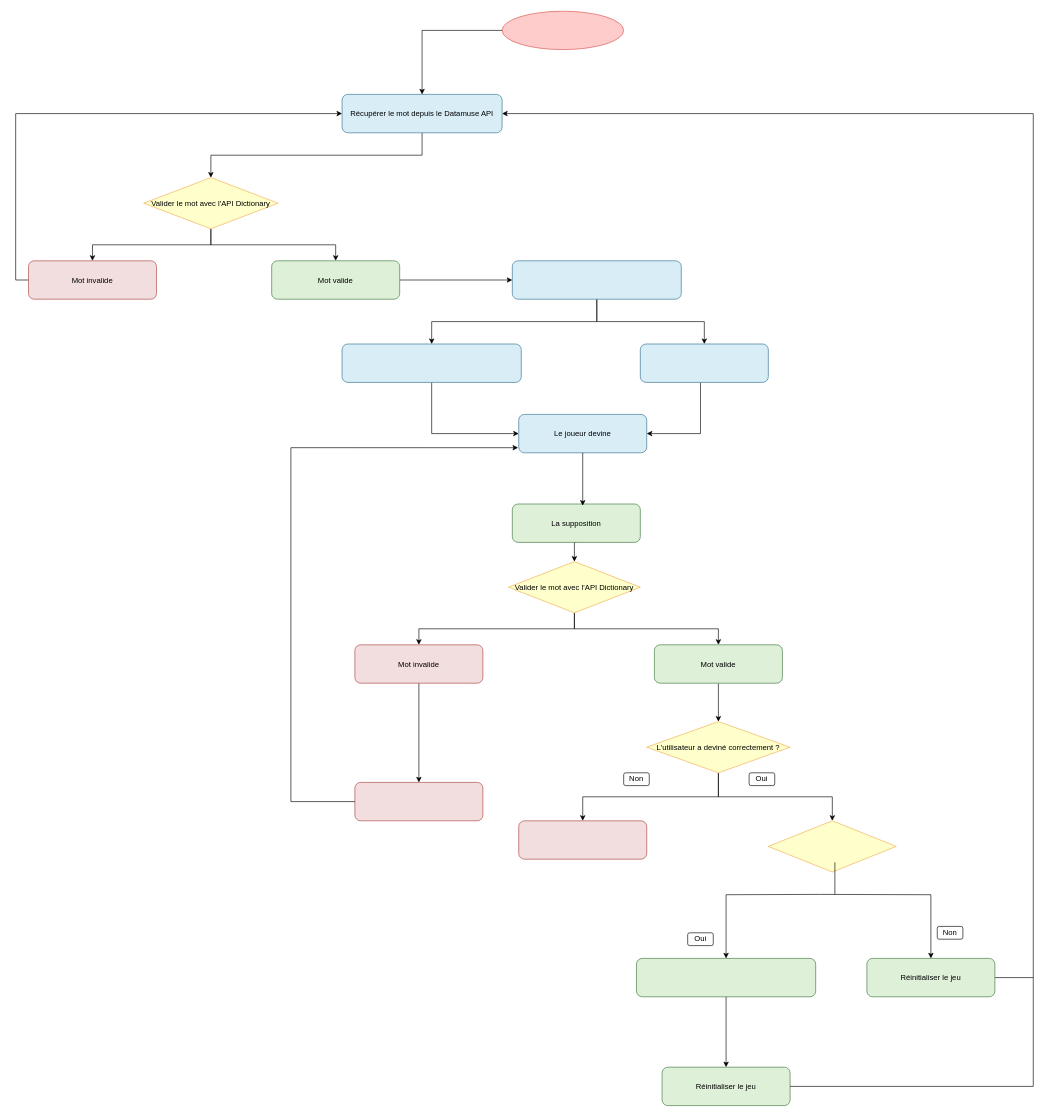
Some shapes in this 1050 by 1117 pixel diagram are drawn without their labels. Each missing label, with the box of its shape:
Afficher le message d'erreur: (354, 782, 483, 821)
Afficher le tableau de bord + l'interface du jeu: (512, 260, 681, 299)
Afficher les lettres colorées: (518, 820, 647, 859)
Jouer en tant qu'invité (aucun score enregistré): (341, 343, 521, 382)
L'utilisateur ouvre l'application: (501, 11, 624, 50)
Log in: (640, 343, 768, 382)
Mettre à jour le score dans la base de données: (636, 958, 816, 997)
Utilisateur connecté ?: (768, 820, 896, 872)
